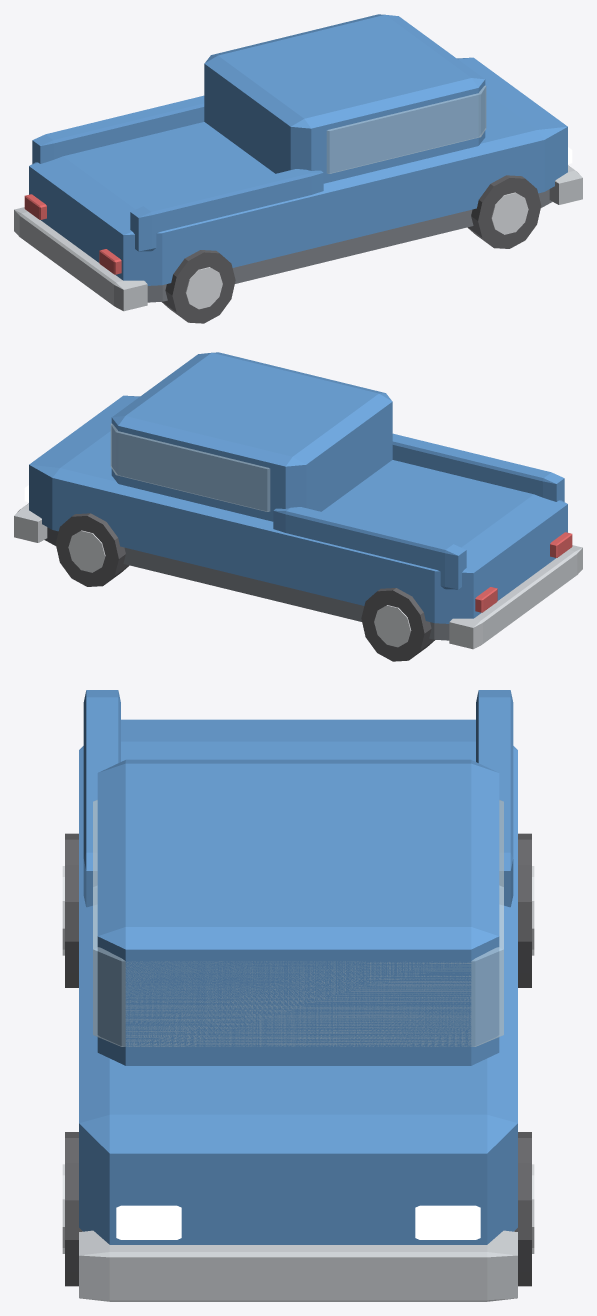
Rendered from b03_compact_unibody_pickup.glb.
3 views of the same model, one above another, from view 1: azimuth 30°, elevation 25°; view 2: azimuth 150°, elevation 25°; view 3: azimuth 270°, elevation 25° (orthographic). The views are drawn at different scales.
Visible parts, largest first — view 1: b03_compact_unibody_pickup; view 2: b03_compact_unibody_pickup; view 3: b03_compact_unibody_pickup.
Boxes of the visible parts, x1=… form: b03_compact_unibody_pickup: x1=14, y1=14, x2=582, y2=323; b03_compact_unibody_pickup: x1=14, y1=352, x2=582, y2=661; b03_compact_unibody_pickup: x1=62, y1=690, x2=534, y2=1301.
Bounding box in the file's own units: 5.19 × 1.77 × 2.29.
